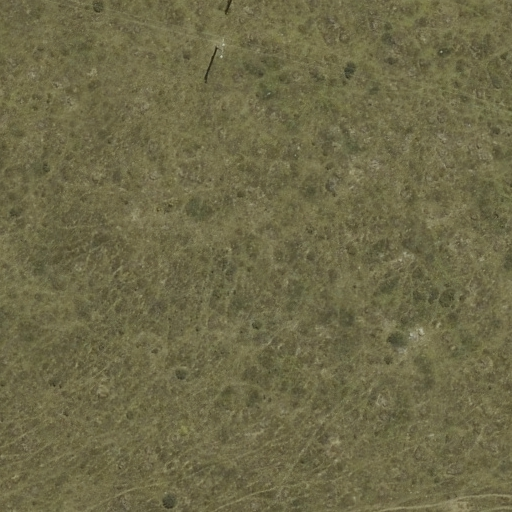DT: (203, 32, 233, 64)
